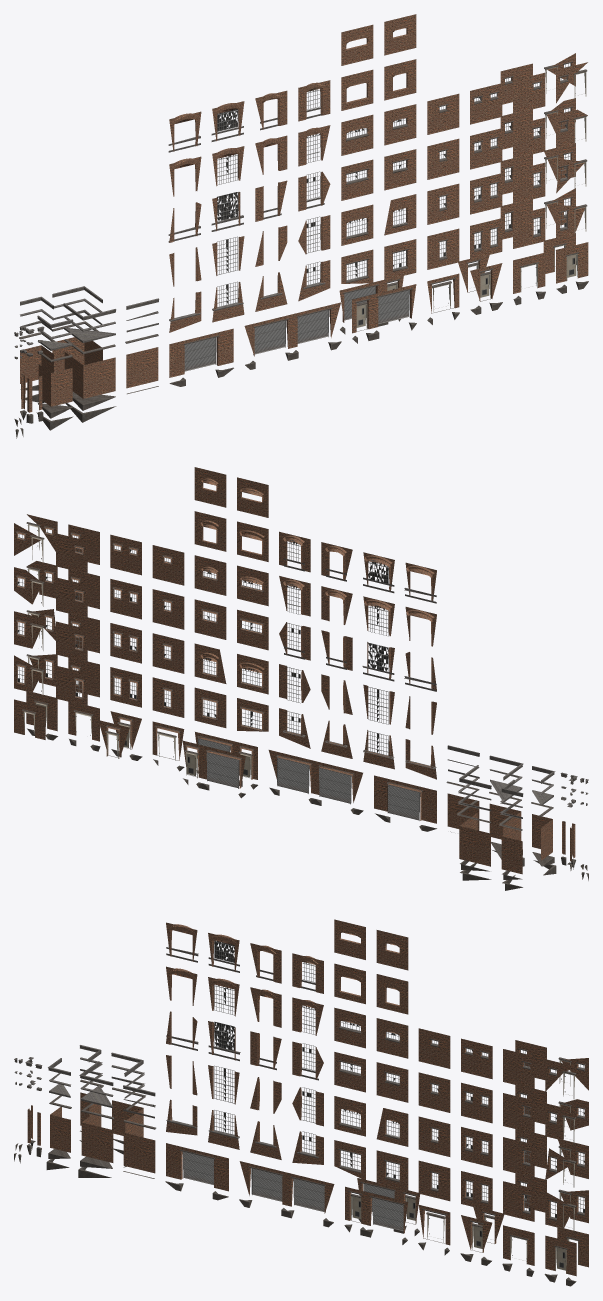
The model's file is factory.glb.
3 renders of one model, top to bottom at view 1: azimuth 30°, elevation 25°; view 2: azimuth 150°, elevation 25°; view 3: azimuth 330°, elevation 25°, orthographic.
Parts seen in each view (by area): view 1: door_garage_double_01, wall_standard_corner_large_01, wall_door_garage_centered_01, door_garage_door_01, wall_standard_standard_01, wall_standard_corner_small_01, wall_window_offset_small_07, wall_window_centered_small_04, wall_window_offset_small_05, wall_window_centered_small_03, wall_window_centered_medium_06, wall_door_garage_double_01 (+40 smaller); view 2: door_garage_double_01, door_garage_door_02, wall_door_garage_centered_01, wall_standard_corner_large_02, wall_window_centered_small_04, wall_door_garage_double_01, wall_window_centered_small_03, wall_window_centered_medium_06, wall_window_offset_small_08, wall_window_centered_medium_04, wall_window_centered_small_02, wall_window_centered_double_04 (+42 smaller); view 3: door_garage_double_01, wall_standard_corner_large_01, door_garage_door_01, wall_door_garage_centered_01, wall_standard_standard_01, wall_window_centered_small_04, wall_window_centered_medium_06, wall_window_centered_small_03, wall_window_offset_small_07, wall_window_centered_small_02, wall_window_offset_small_05, wall_window_centered_medium_04 (+48 smaller).
Part boxes in pixels (left/top/right/bottom): door_garage_double_01: left=253, top=308, right=332, bottom=355; wall_standard_corner_large_01: left=64, top=352, right=115, bottom=398; wall_door_garage_centered_01: left=169, top=328, right=233, bottom=377; door_garage_door_01: left=355, top=288, right=412, bottom=331; wall_standard_standard_01: left=126, top=347, right=158, bottom=388; wall_standard_corner_small_01: left=38, top=364, right=72, bottom=406; wall_window_offset_small_07: left=513, top=72, right=545, bottom=113; wall_window_centered_small_04: left=427, top=93, right=459, bottom=134; wall_window_offset_small_05: left=513, top=117, right=545, bottom=158; wall_window_centered_small_03: left=427, top=138, right=459, bottom=179; wall_window_centered_medium_06: left=384, top=14, right=416, bottom=55; wall_door_garage_double_01: left=244, top=302, right=340, bottom=356; door_garage_double_01: left=276, top=755, right=354, bottom=804; door_garage_door_02: left=184, top=744, right=242, bottom=788; wall_door_garage_centered_01: left=374, top=775, right=436, bottom=823; wall_standard_corner_large_02: left=459, top=813, right=490, bottom=866; wall_window_centered_small_04: left=152, top=545, right=184, bottom=585; wall_door_garage_double_01: left=268, top=750, right=362, bottom=802; wall_window_centered_small_03: left=152, top=589, right=184, bottom=629; wall_window_centered_medium_06: left=194, top=467, right=226, bottom=507; wall_window_offset_small_08: left=56, top=533, right=87, bottom=573; wall_window_centered_medium_04: left=194, top=555, right=226, bottom=595; wall_window_centered_small_02: left=152, top=633, right=184, bottom=673; wall_window_centered_double_04: left=110, top=534, right=141, bottom=575; door_garage_double_01: left=248, top=1166, right=325, bottom=1212; wall_standard_corner_large_01: left=81, top=1109, right=113, bottom=1162; door_garage_door_01: left=348, top=1191, right=404, bottom=1231; wall_door_garage_centered_01: left=166, top=1143, right=228, bottom=1191; wall_standard_standard_01: left=123, top=1133, right=155, bottom=1173; wall_window_centered_small_04: left=418, top=1028, right=450, bottom=1068; wall_window_centered_medium_06: left=376, top=930, right=408, bottom=970; wall_window_centered_small_03: left=418, top=1072, right=450, bottom=1112; wall_window_offset_small_07: left=503, top=1049, right=534, bottom=1089; wall_window_centered_small_02: left=418, top=1116, right=450, bottom=1156; wall_window_offset_small_05: left=503, top=1093, right=534, bottom=1133; wall_window_centered_medium_04: left=376, top=1018, right=408, bottom=1058.
Bounding box in the file's own units: 53.33 × 29 × 5.36.
6 materials, 6 textured.
